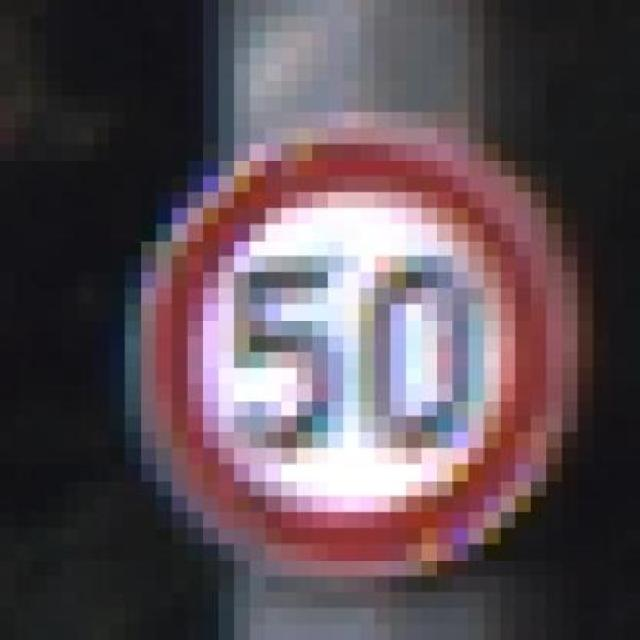forb_speed_over_50: (152, 135, 560, 566)
